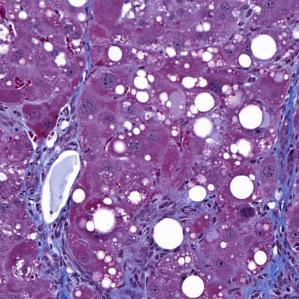fibrosis: (264, 143, 296, 291), (35, 222, 89, 299)
